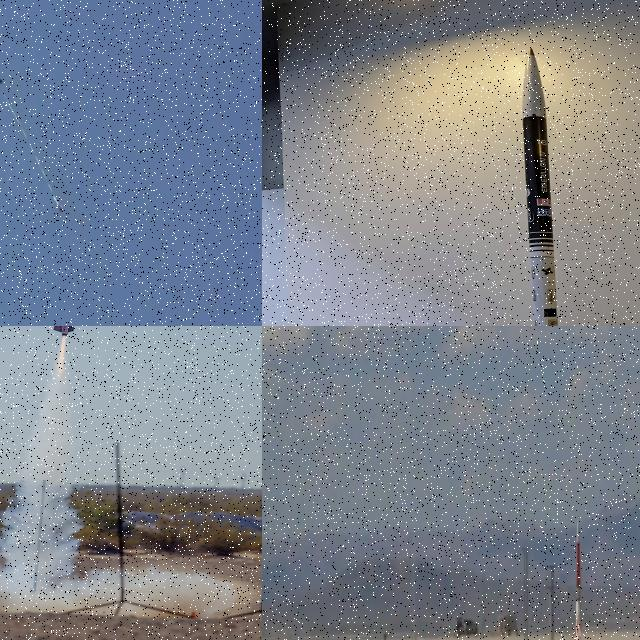Rocket: (522, 48, 558, 326), (572, 518, 583, 640), (54, 196, 62, 212)
